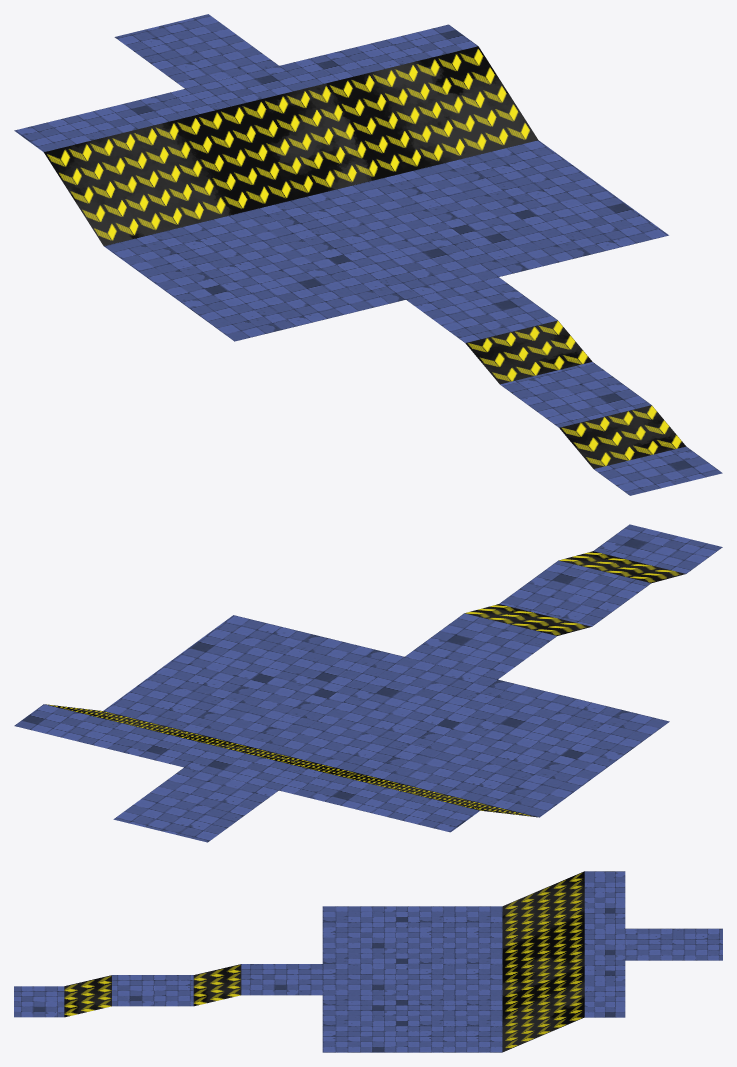
Rendered from Floor_N.fbx.
3 views of the same model, one above another, from view 1: azimuth 30°, elevation 25°; view 2: azimuth 150°, elevation 25°; view 3: azimuth 270°, elevation 25° (orthographic). The views are drawn at different scales.
Visible parts, largest first — view 1: Floor_N; view 2: Floor_N; view 3: Floor_N.
Boxes of the visible parts, x1,y1,x2,y2 form: Floor_N: (14, 14, 722, 495); Floor_N: (14, 524, 722, 842); Floor_N: (14, 871, 722, 1052).
Size of the model in its own units: 43.02 by 7.79 by 87.94.
